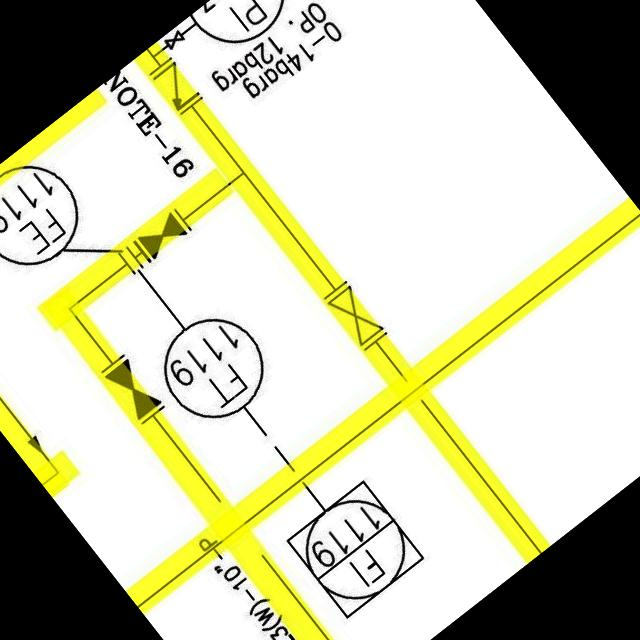GV: (318, 275, 391, 354)
